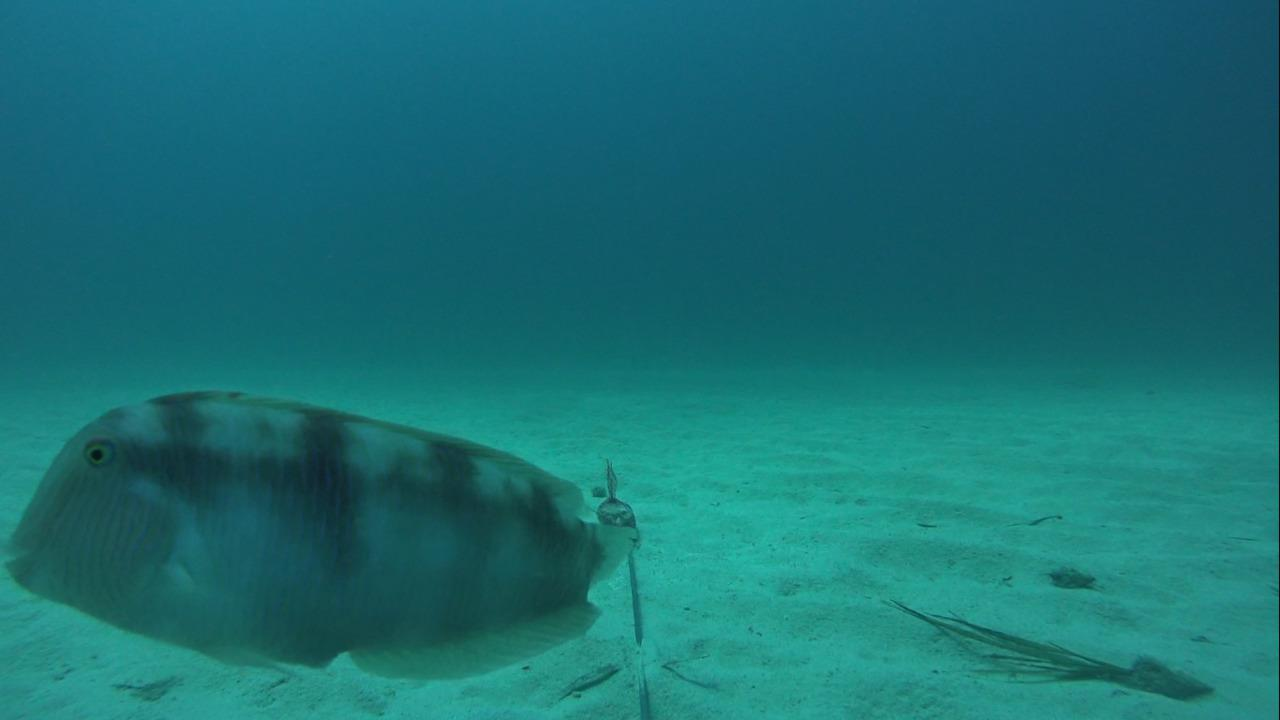raor: (8, 385, 638, 688)
